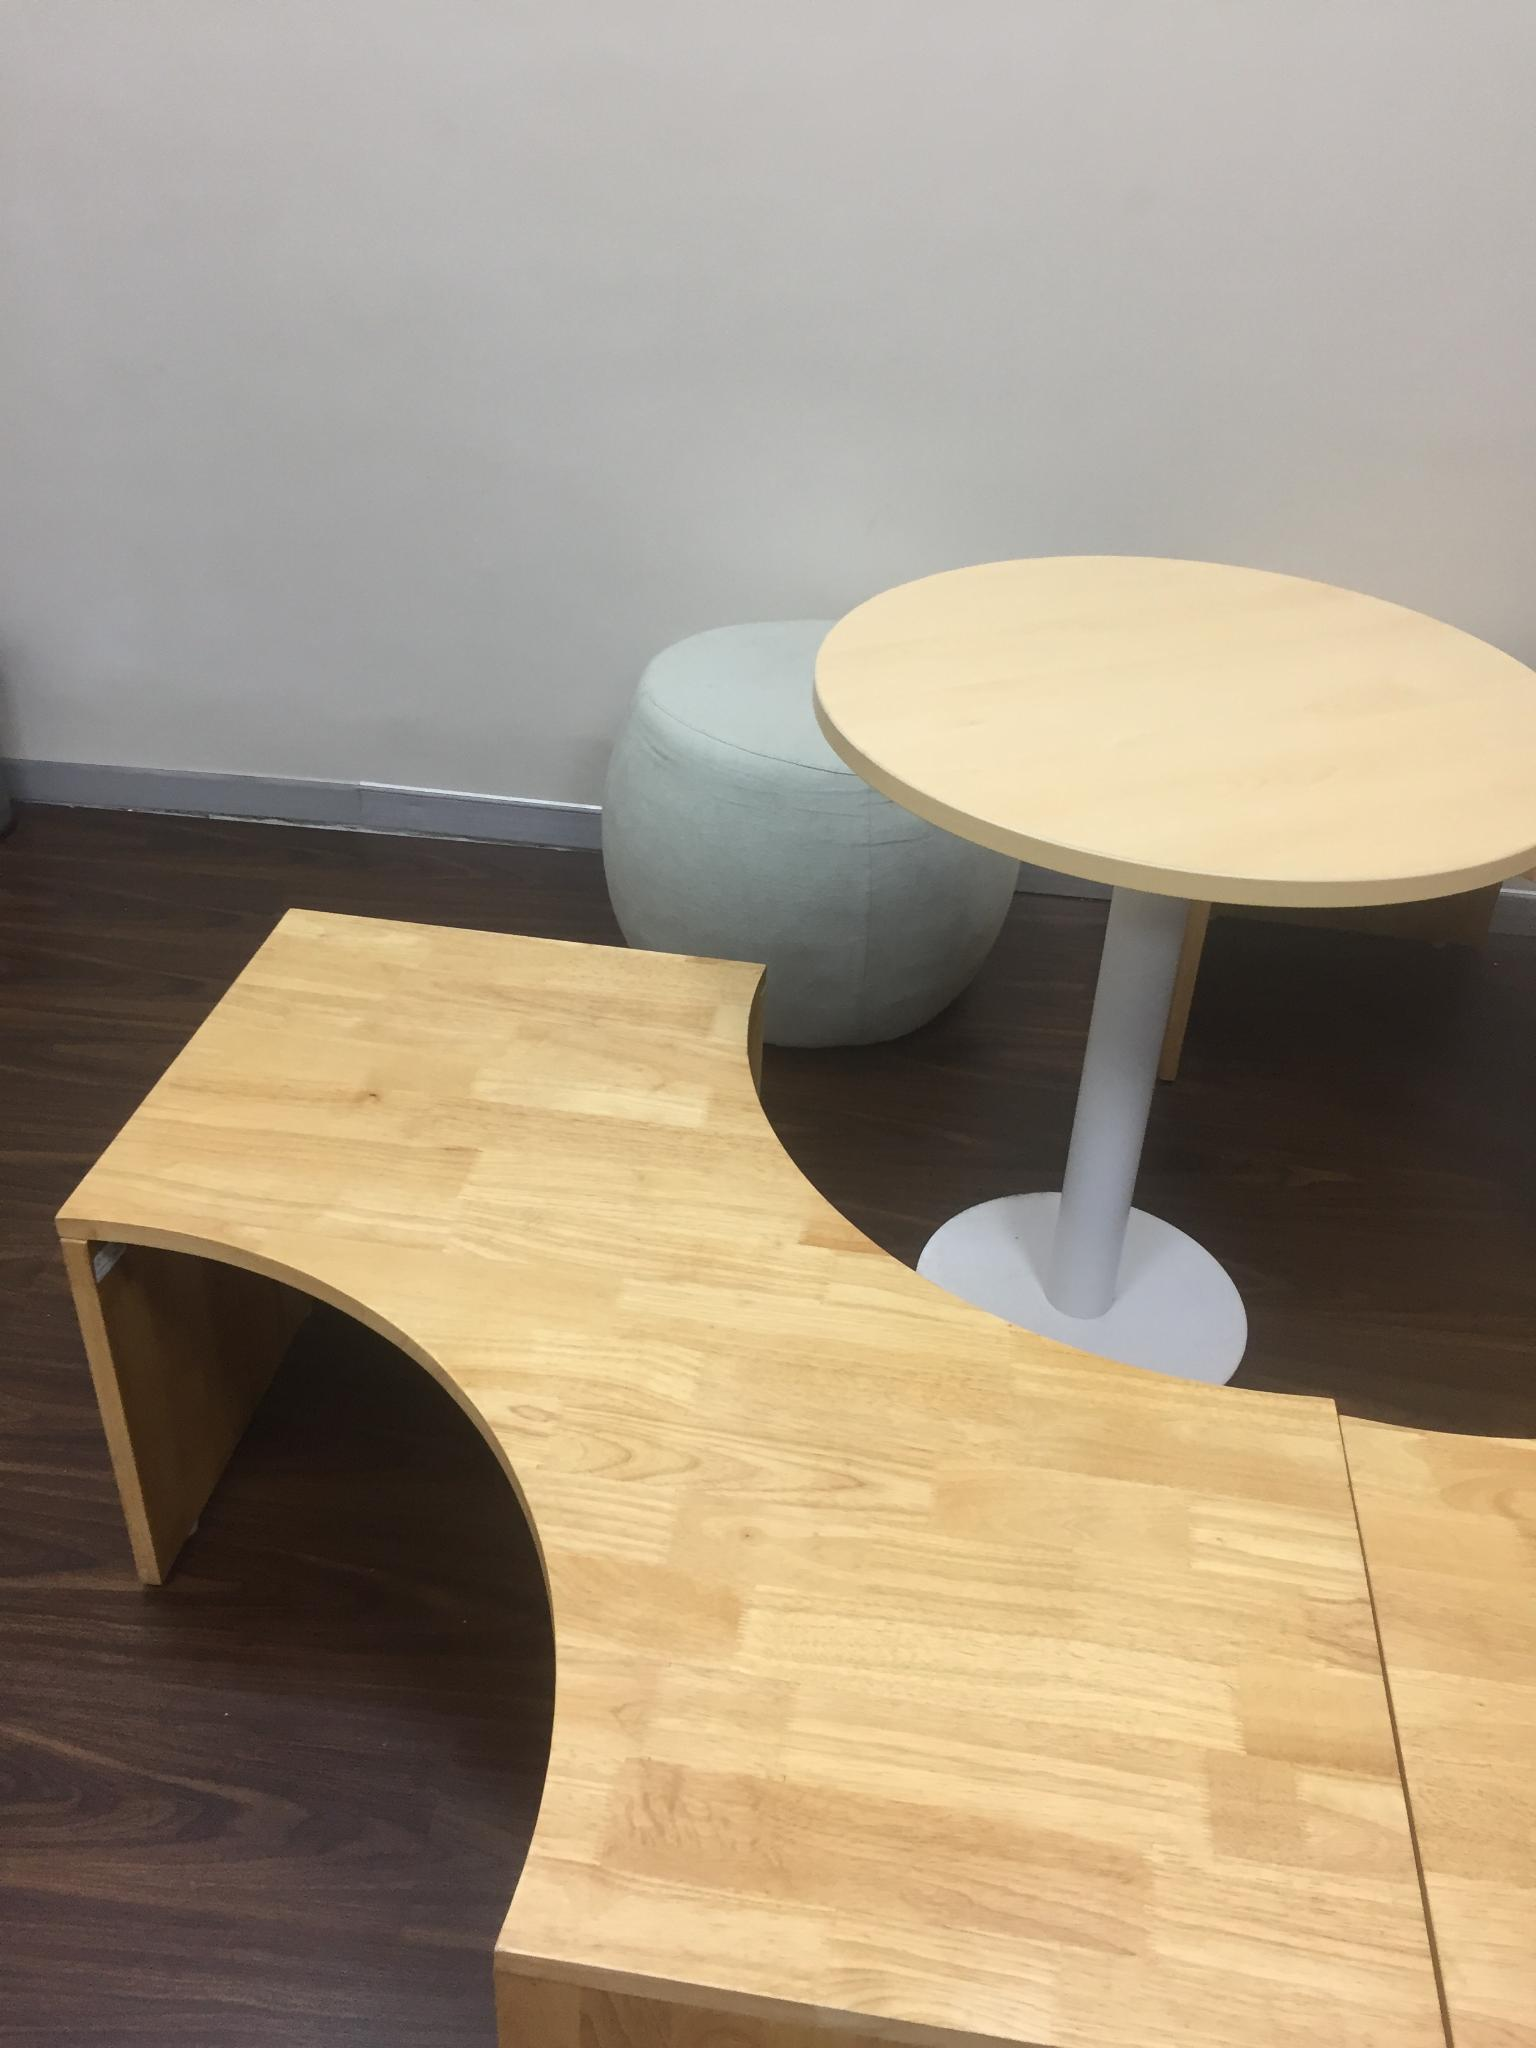chair: (616, 585, 1026, 1097)
